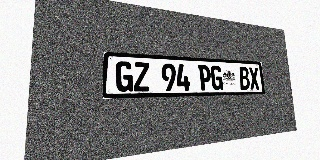4: (176, 64, 190, 91)
9: (161, 63, 176, 91)
B: (238, 67, 250, 90)
G: (116, 61, 133, 92), (210, 65, 223, 90)
P: (198, 65, 212, 90)
X: (248, 67, 260, 90)
Z: (133, 62, 150, 92)
